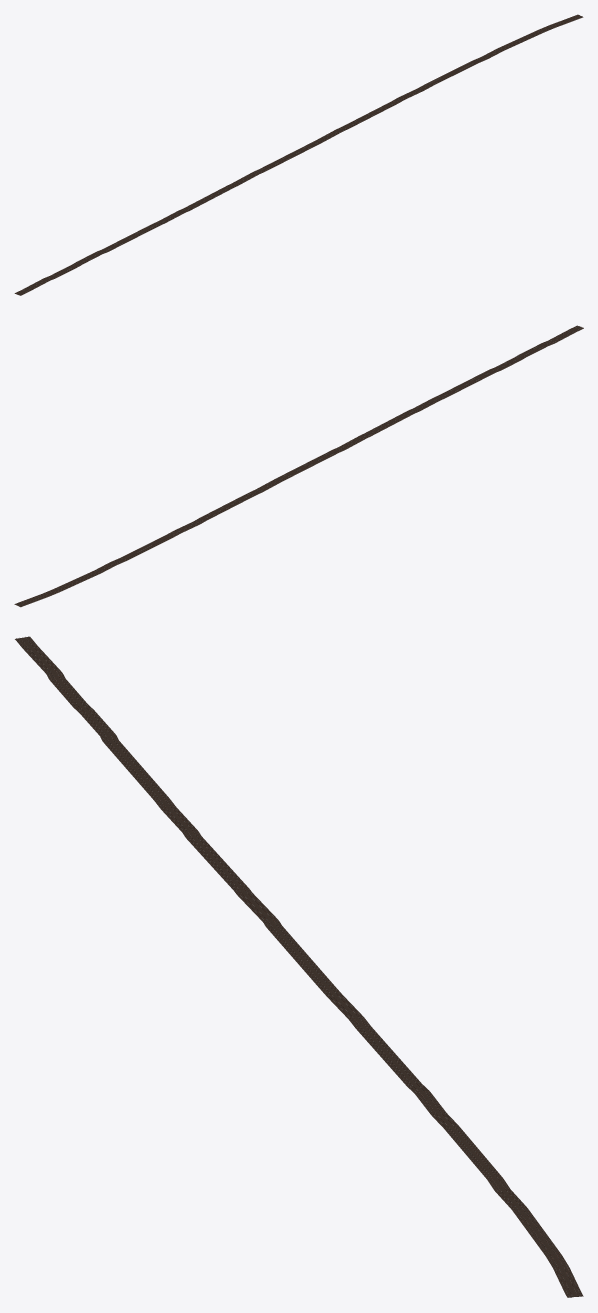
The model's file is kobe_0032.glb.
3 renders of one model, top to bottom at view 1: azimuth 30°, elevation 25°; view 2: azimuth 210°, elevation 25°; view 3: azimuth 270°, elevation 25°, orthographic. The views are drawn at different scales.
Parts seen in each view (by area): view 1: ballast_top, oxidised_rail_profiles; view 2: ballast_top, oxidised_rail_profiles, ballast_left; view 3: ballast_top, oxidised_rail_profiles.
Boxes of the visible parts, box(x1,y1,x2,y2) form: ballast_top: box(14, 14, 583, 295); oxidised_rail_profiles: box(16, 15, 582, 295); ballast_top: box(14, 325, 583, 606); oxidised_rail_profiles: box(15, 326, 580, 606); ballast_left: box(20, 328, 583, 607); ballast_top: box(15, 636, 582, 1297); oxidised_rail_profiles: box(16, 637, 580, 1296).
Size of the model in its own units: 713 by 0.819 by 260.
4 materials, 3 textured.
